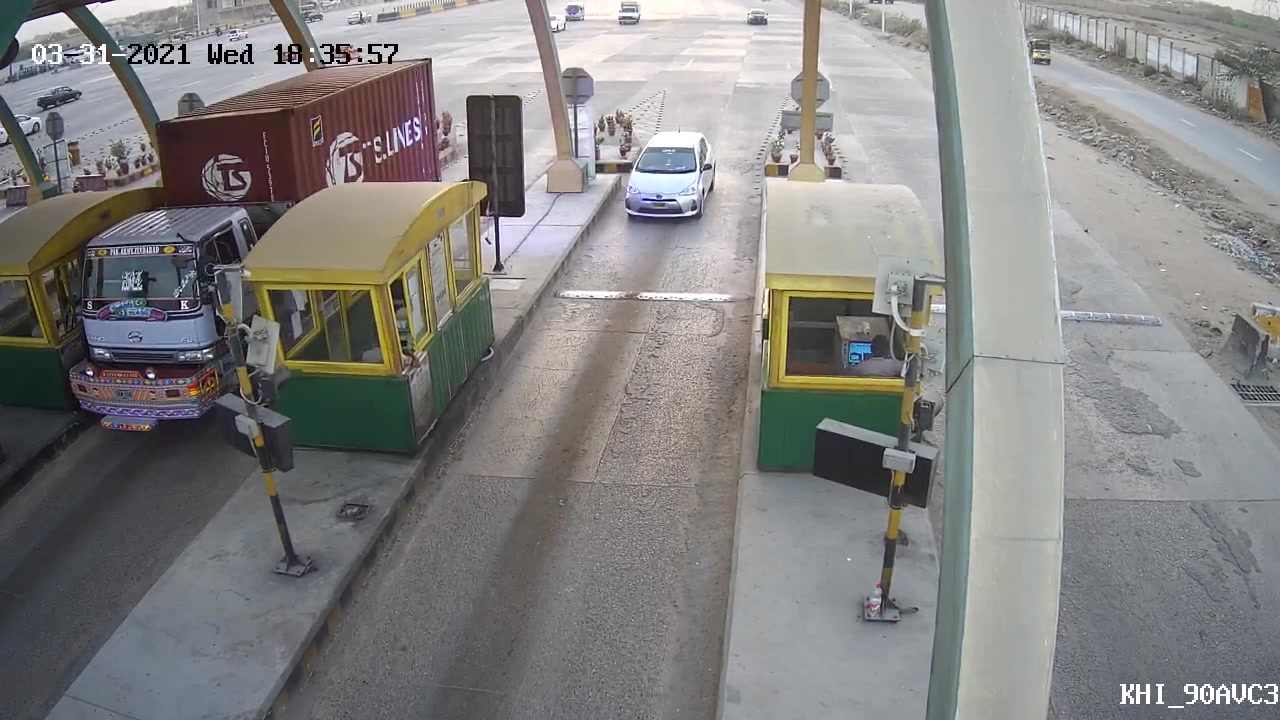F1: (618, 121, 722, 236)
